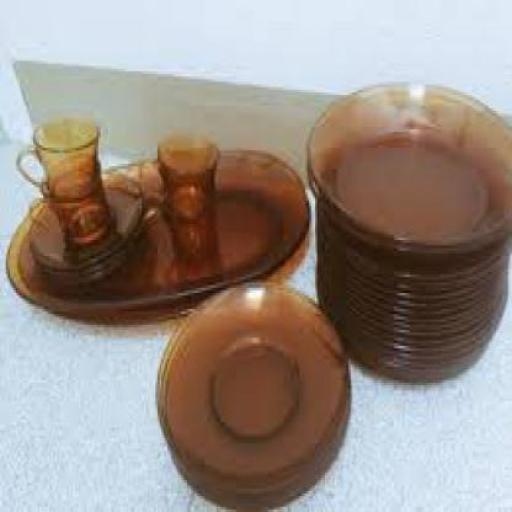glass: (2, 148, 309, 325), (156, 280, 349, 509), (304, 79, 510, 251), (317, 200, 506, 382), (28, 172, 140, 278), (140, 137, 218, 227), (16, 116, 100, 193), (28, 174, 112, 241)
